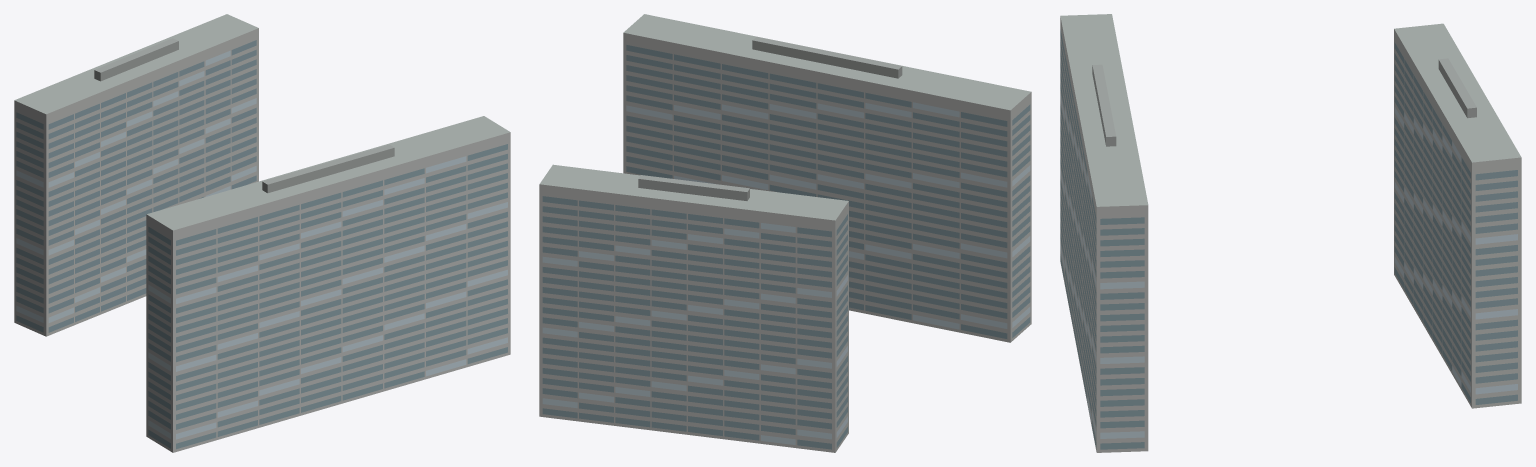
Rendered from apt-a14319204.glb.
3 views of the same model, side by side, from view 1: azimuth 30°, elevation 25°; view 2: azimuth 150°, elevation 25°; view 3: azimuth 270°, elevation 25° (orthographic). The views are drawn at different scales.
Parts seen in each view (by area): view 1: apt-a14319204; view 2: apt-a14319204; view 3: apt-a14319204.
Part boxes in pixels (bbox=[...]): apt-a14319204: bbox=[14, 14, 510, 452]; apt-a14319204: bbox=[539, 14, 1031, 452]; apt-a14319204: bbox=[1060, 14, 1521, 452].
Bounding box in the file's own units: 104 × 64 × 105.
